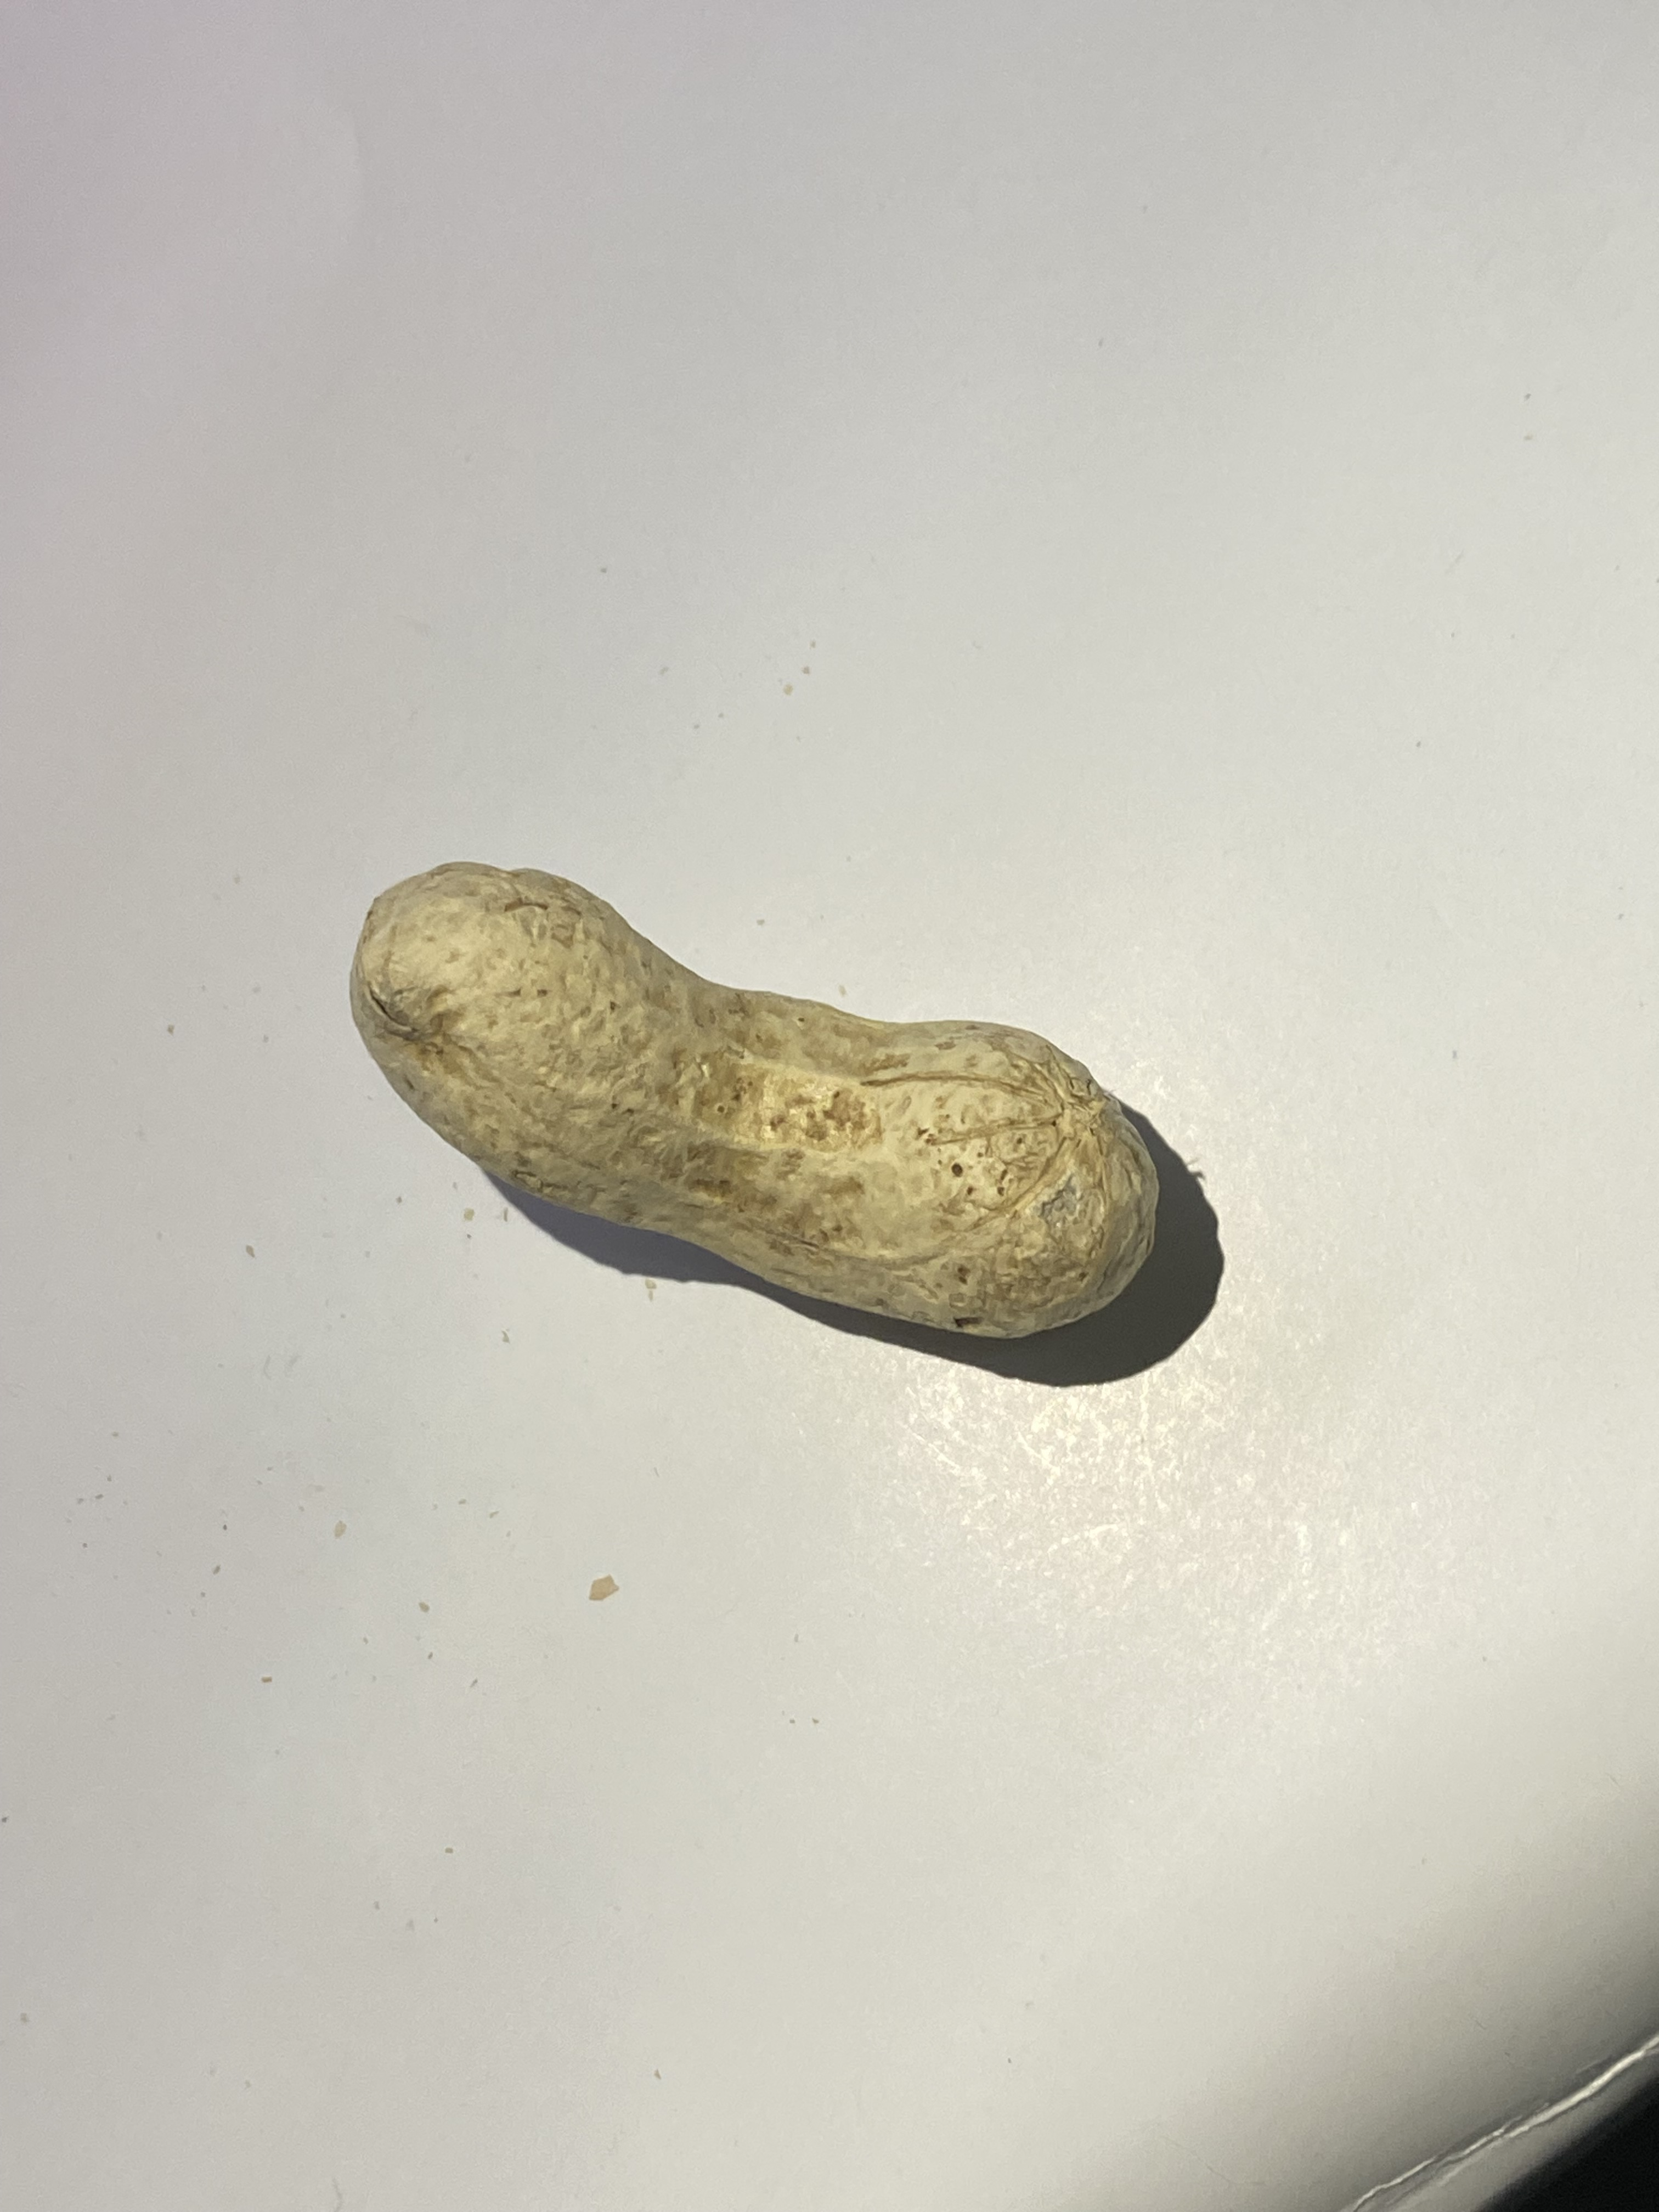kacang3: (300, 848, 1157, 1357)
